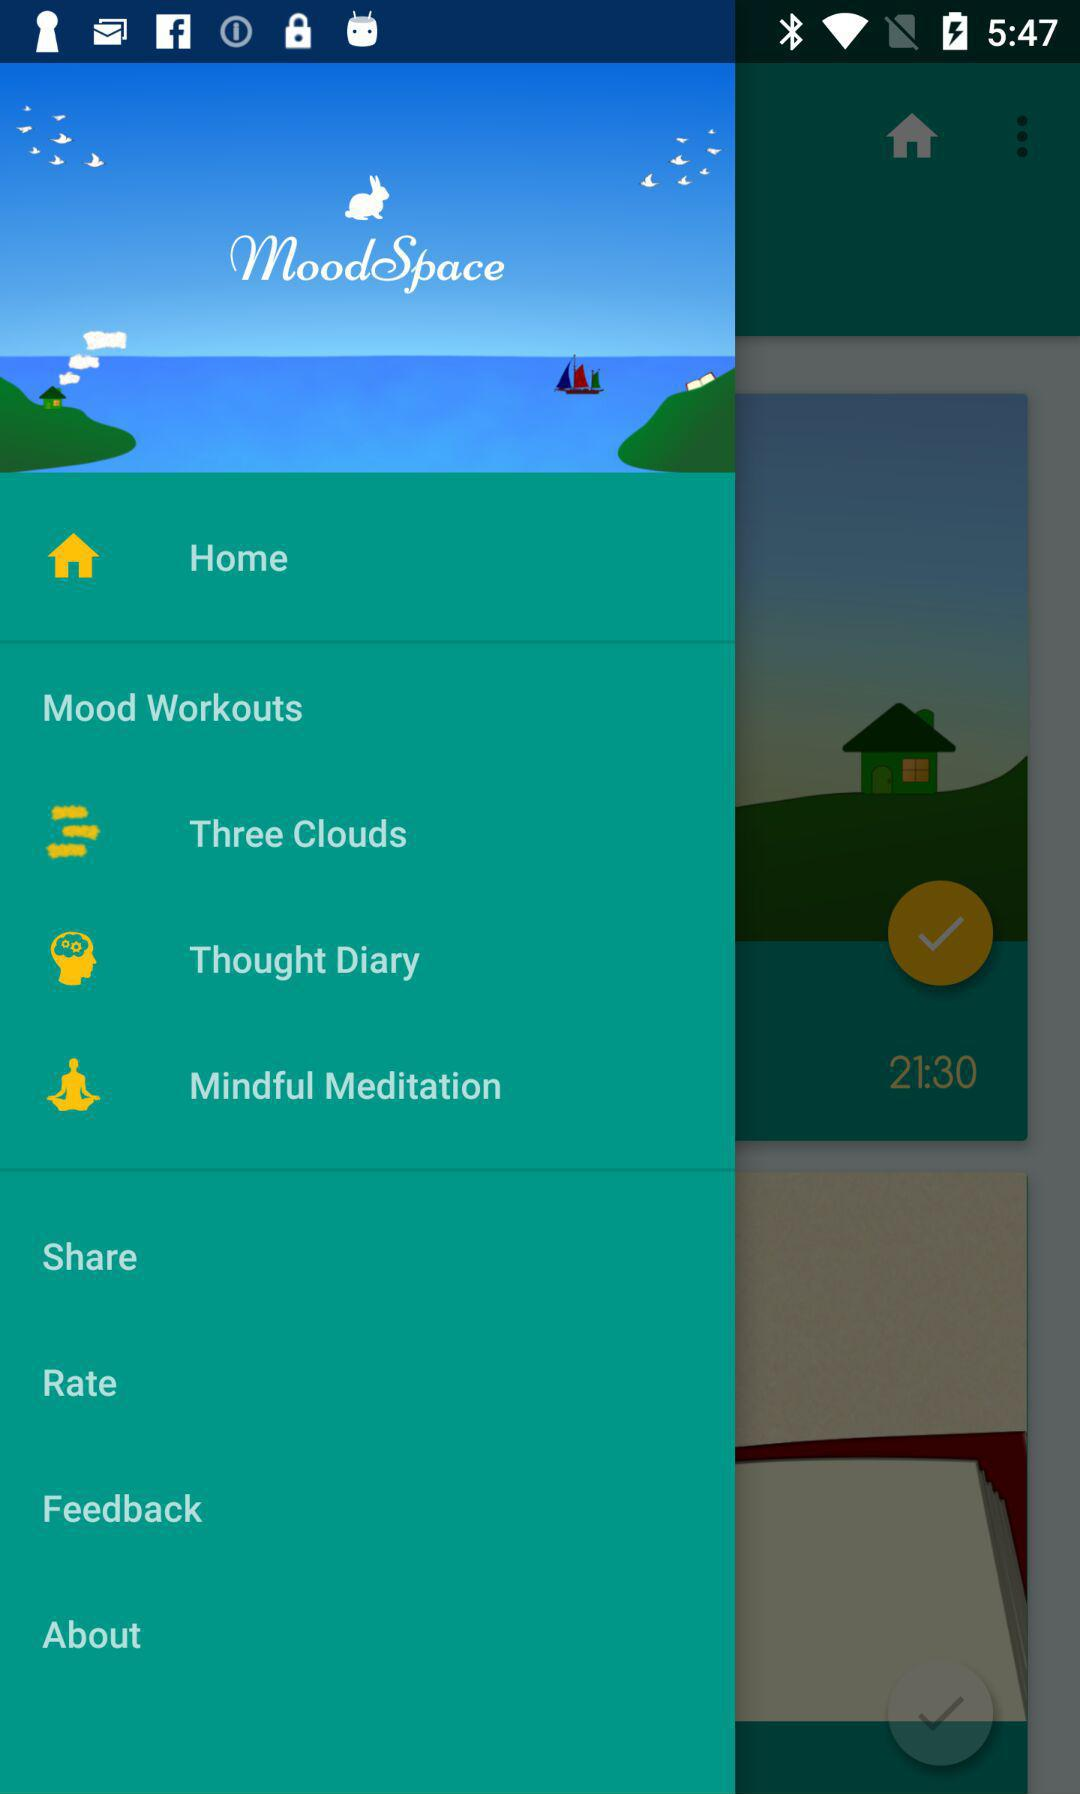Drawer: (1, 64, 735, 1794)
Icon: (47, 533, 102, 580)
Image: (1, 64, 735, 473), (46, 1057, 102, 1114), (46, 803, 102, 860), (50, 932, 97, 987), (345, 176, 391, 223)
Text: (229, 235, 506, 296), (190, 1070, 501, 1101), (188, 944, 421, 982), (44, 693, 304, 724), (190, 816, 407, 850), (44, 1493, 202, 1524), (42, 1240, 138, 1272), (41, 1620, 141, 1650), (191, 543, 290, 574), (44, 1369, 118, 1398)
UpperTaskBar: (1, 1, 1080, 64)
